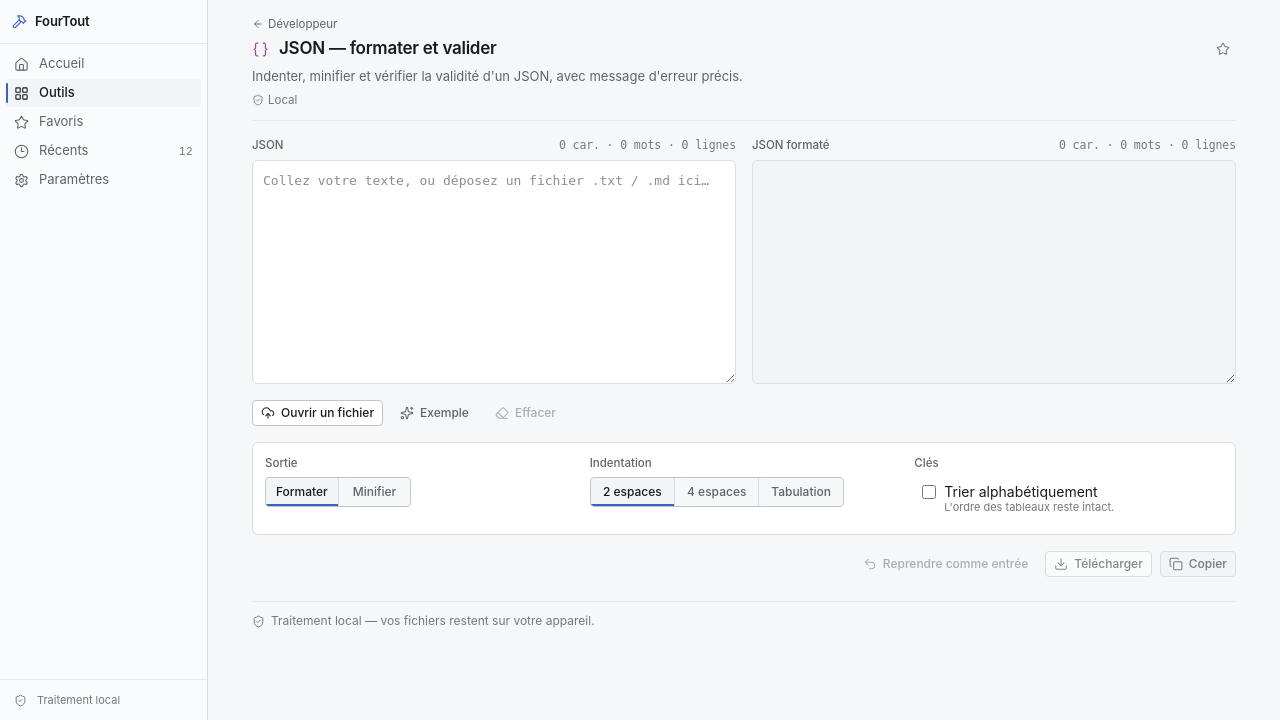
Test case: développeur — formats de données › JSON : formate, valide et situe l'erreur
Check: the heading "JSON — formater et valider" is shown, box [279, 38, 496, 58]
Step 1. Click the text box labelled "JSON" → (494, 272), box [252, 160, 736, 384]
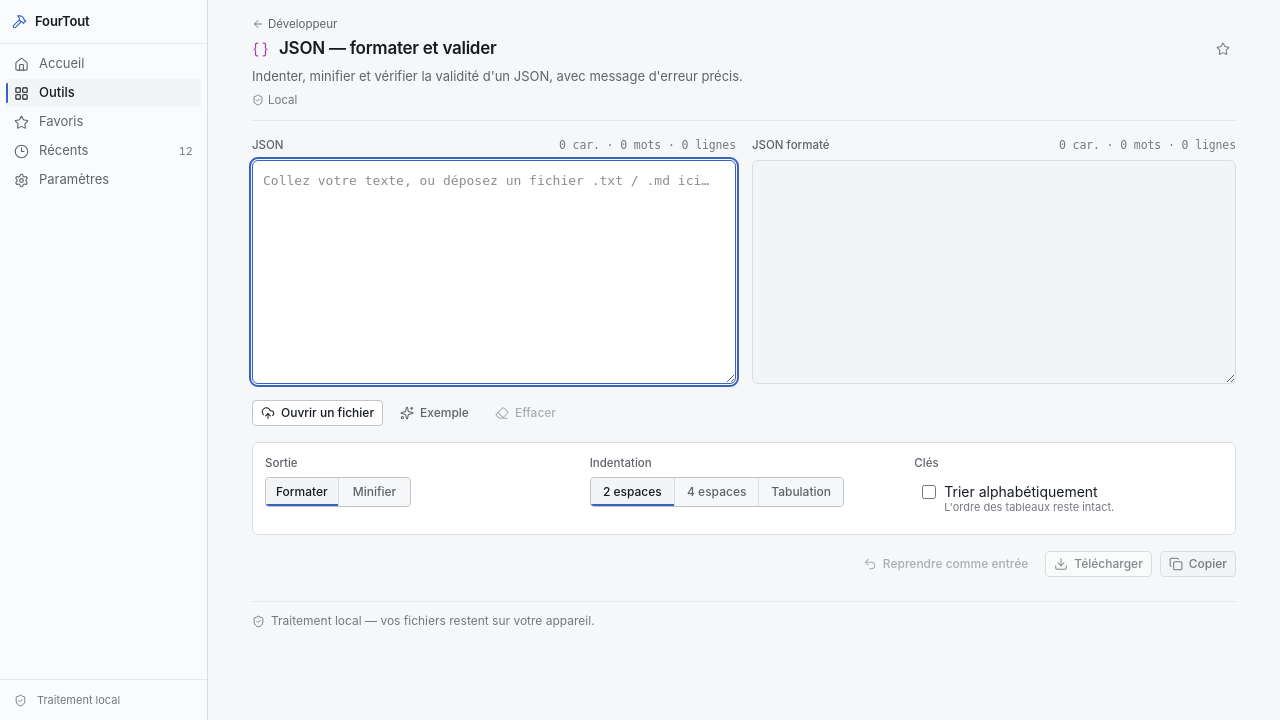
Step 2. Type keys "{\"b\":1,\"a\":2}"
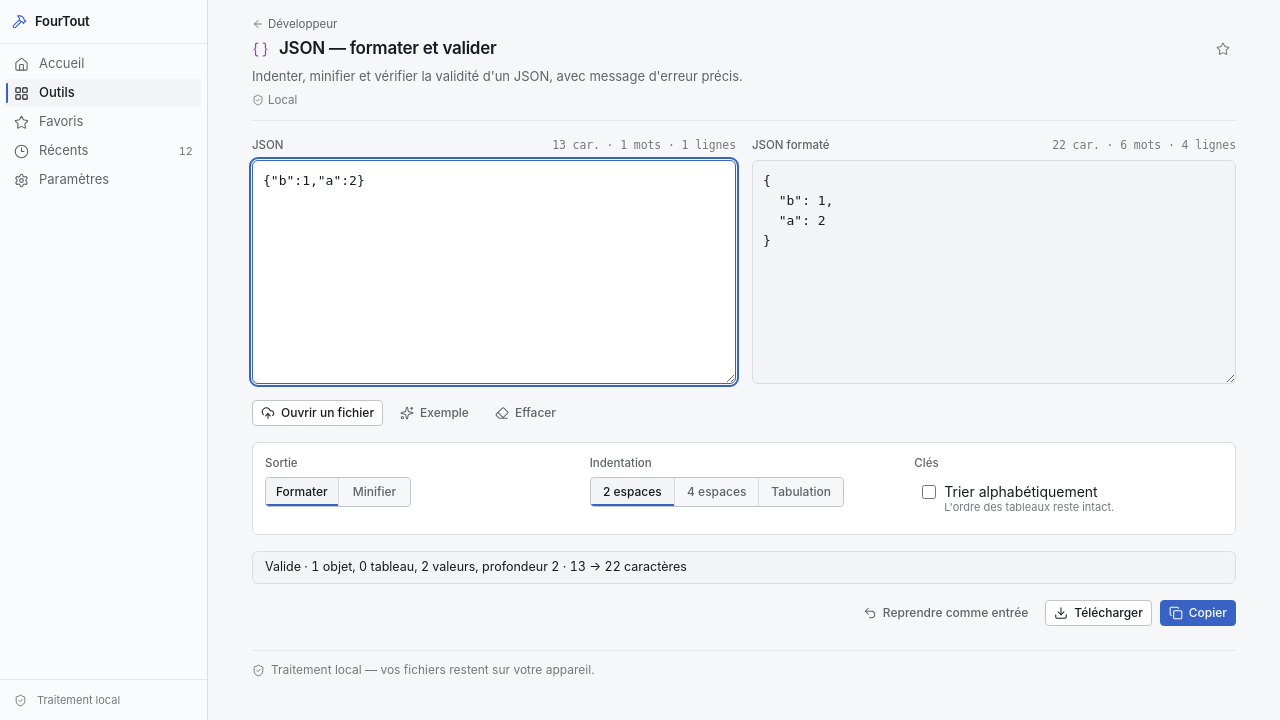
Check: the text "Valide" is shown, box [265, 559, 687, 574]
Step 3. Clear the text box labelled "JSON" → (494, 272), box [252, 160, 736, 384]
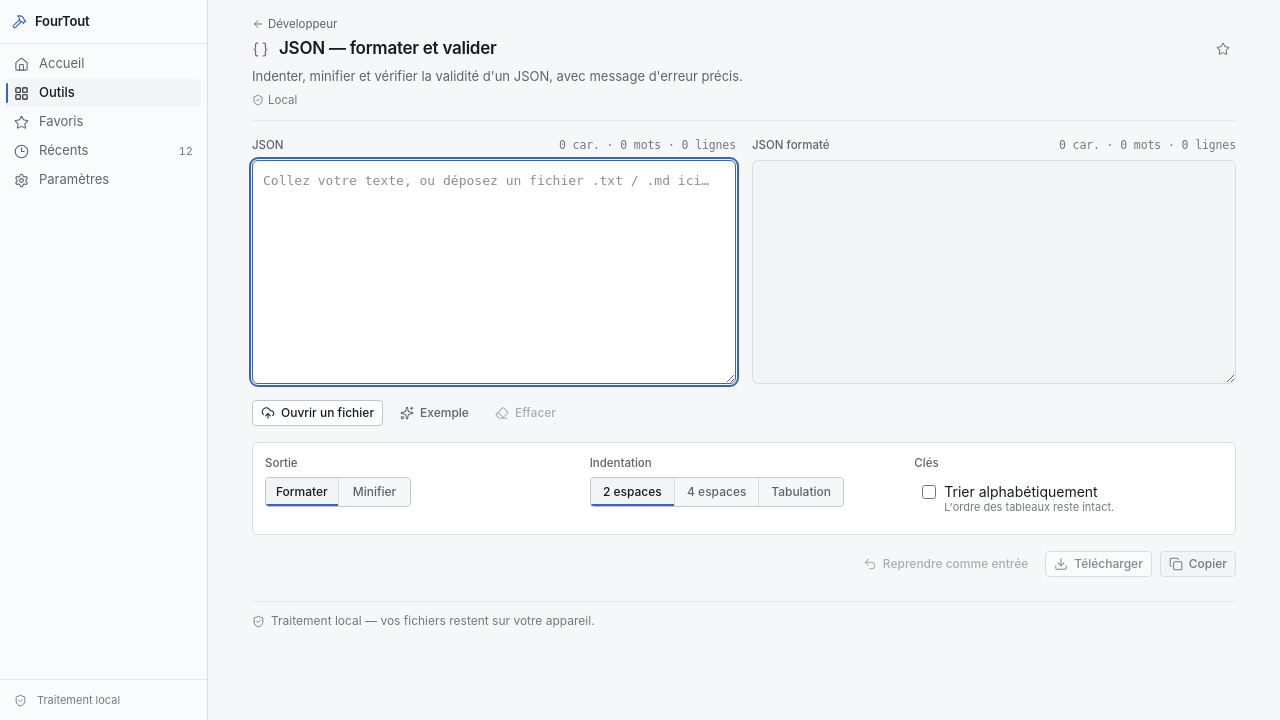
Step 4. Type keys "{\"a\":,}"
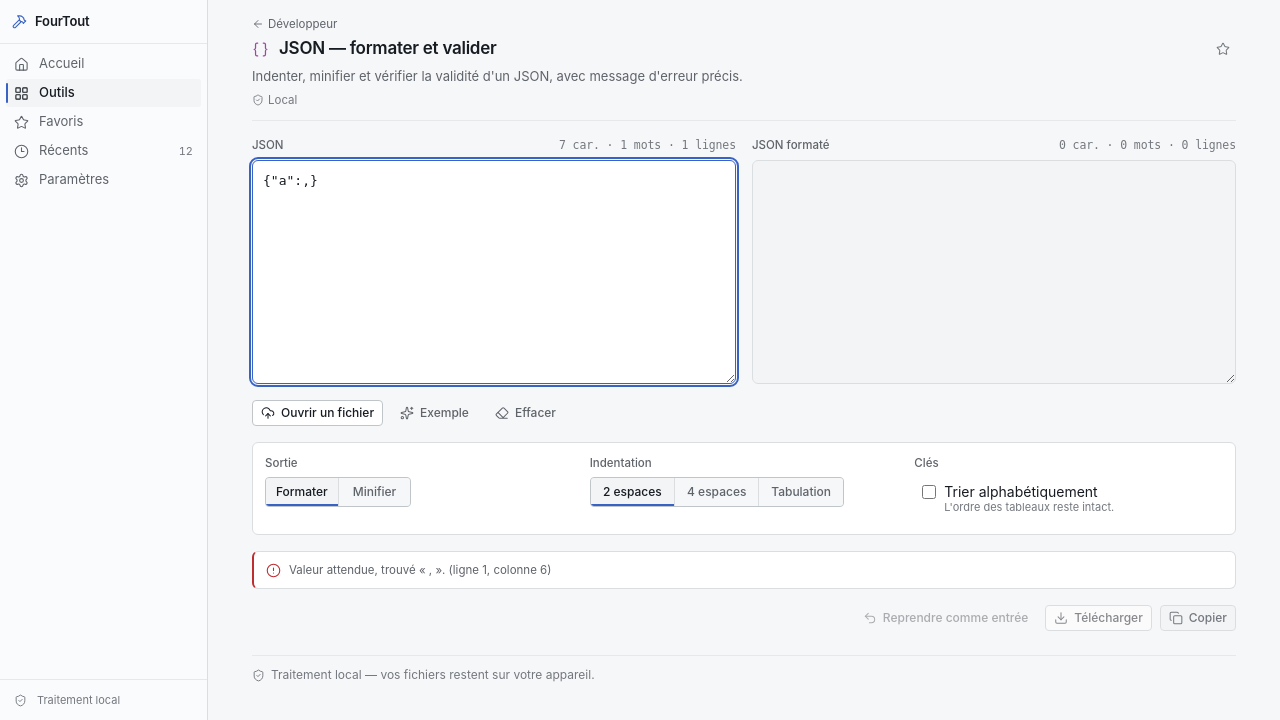
Check: the text "Valeur attendue, trouvé « , ». (ligne 1, colonne 6)" is shown, box [289, 563, 551, 577]
